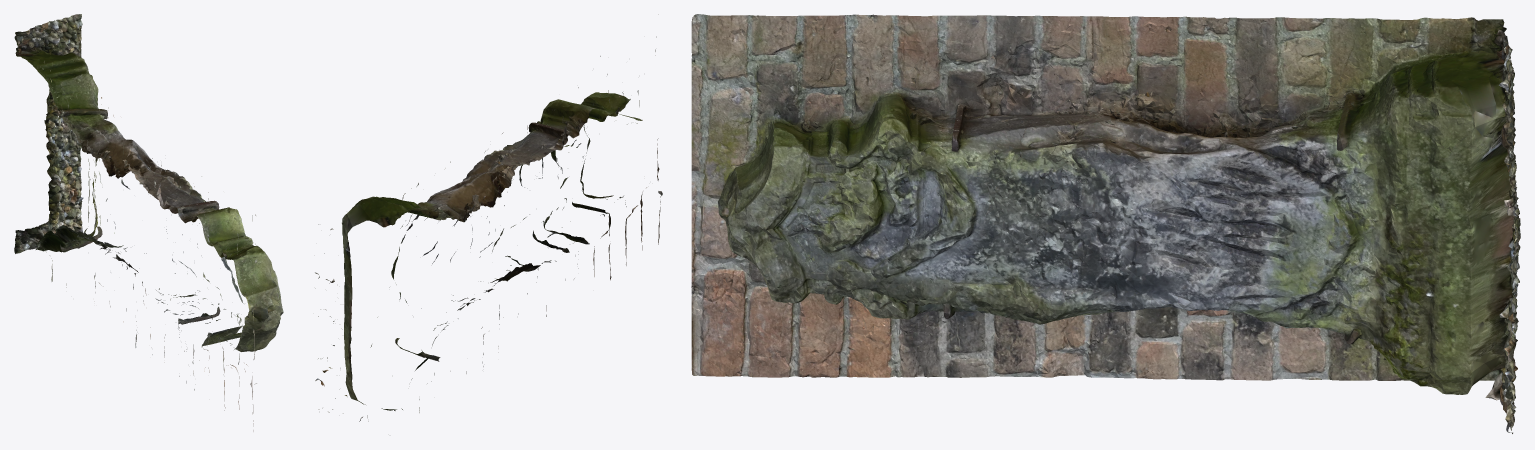
Rendered from stone_tablet_iv.glb.
The picture shows the model from 3 angles, left to right: view 1: azimuth 30°, elevation 25°; view 2: azimuth 150°, elevation 25°; view 3: azimuth 270°, elevation 25°; orthographic projection. The views are drawn at different scales.
Visible parts, largest first — view 1: default; view 2: default; view 3: default.
Part boxes in pixels (x1=…): default: x1=14, y1=14, x2=283, y2=431; default: x1=315, y1=14, x2=662, y2=421; default: x1=691, y1=14, x2=1520, y2=433.
Bounding box in the file's own units: 2.5 × 6.49 × 13.46.
1 material, 1 textured.
